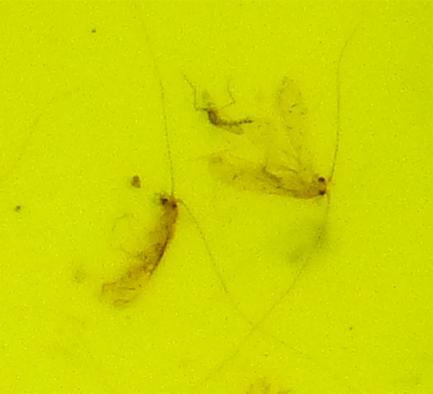Nematocera: (198, 100, 254, 134)
Plecoptera: (100, 191, 182, 294), (252, 163, 333, 202)
